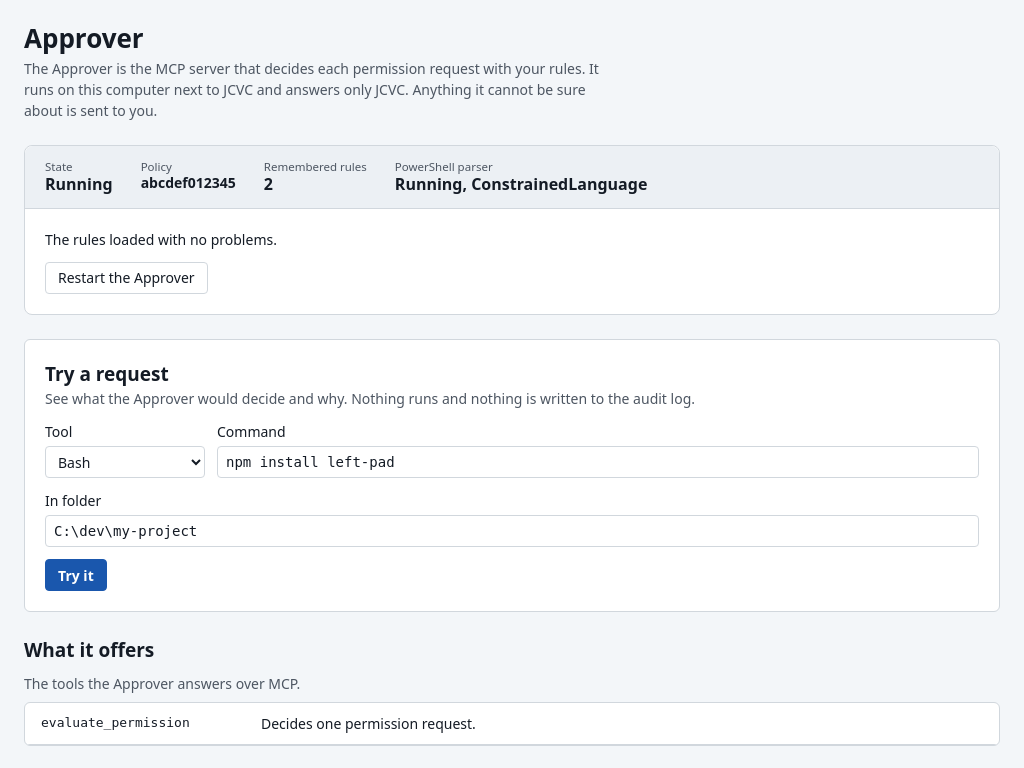
Test: the Approver workbench › runs a dry test through the policy and shows the verdict
Expected: the text "Running" is shown, [45,174,113,194]
Step 1. Click the button "Try it" → x=76, y=575, box [45,559,107,591]
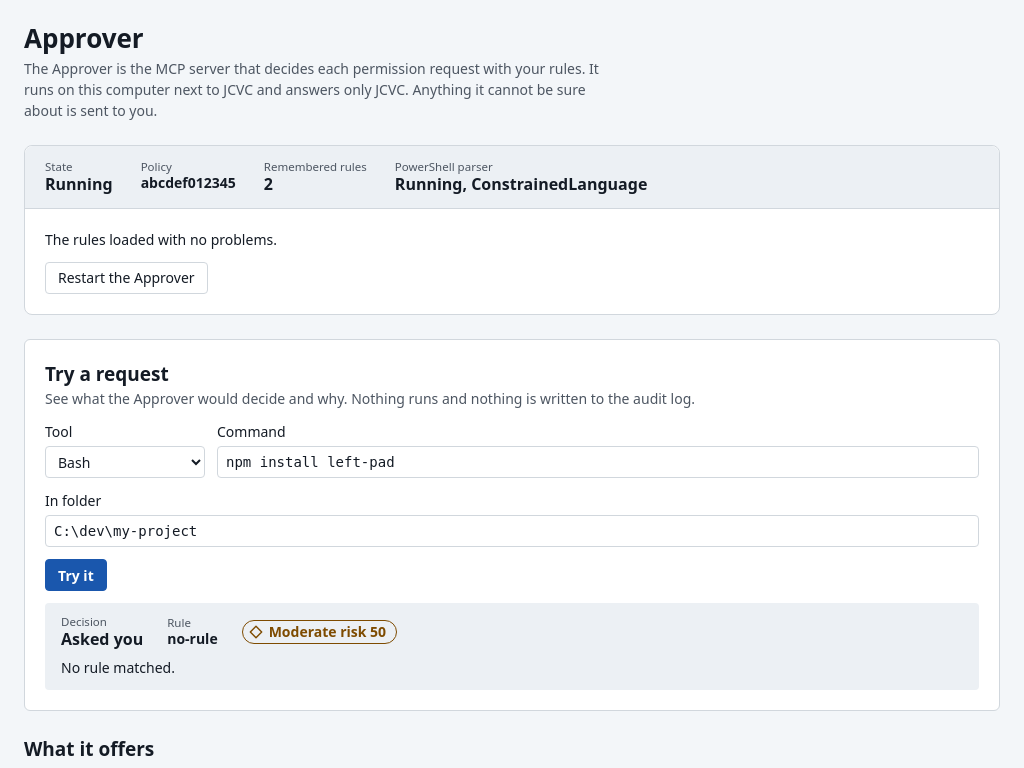
Now the text "No rule matched." is shown, box [61,658,175,677]
